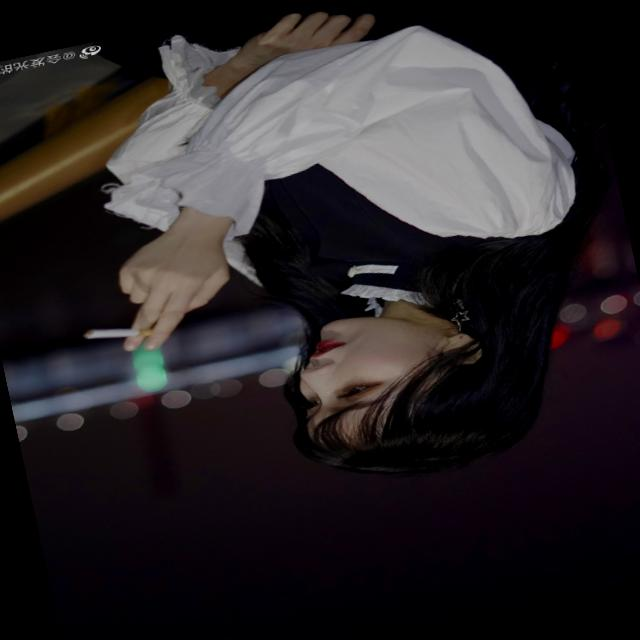smoke: (75, 314, 154, 352)
